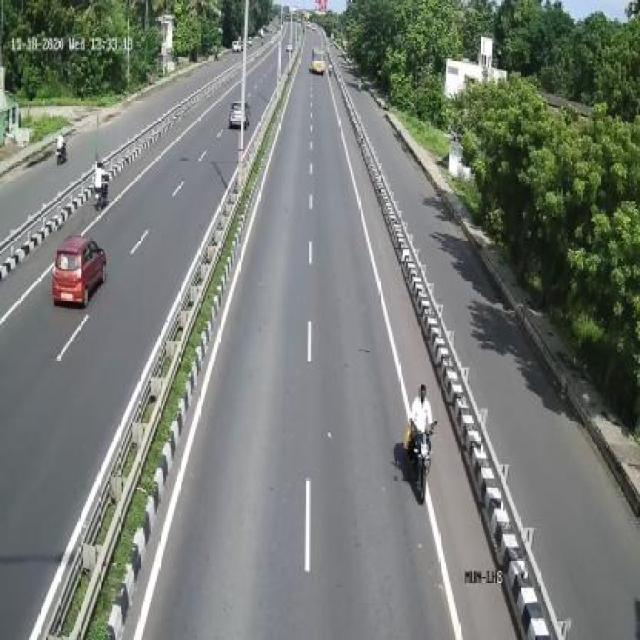car: (49, 228, 109, 304)
